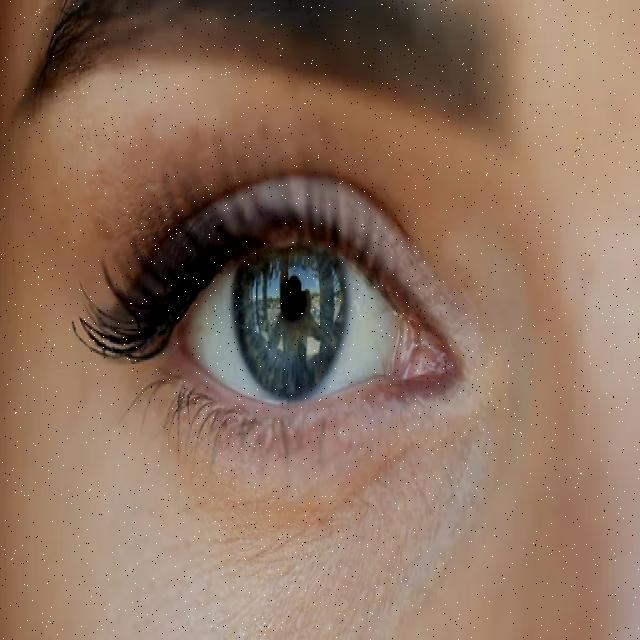Normal: (0, 109, 632, 532)
